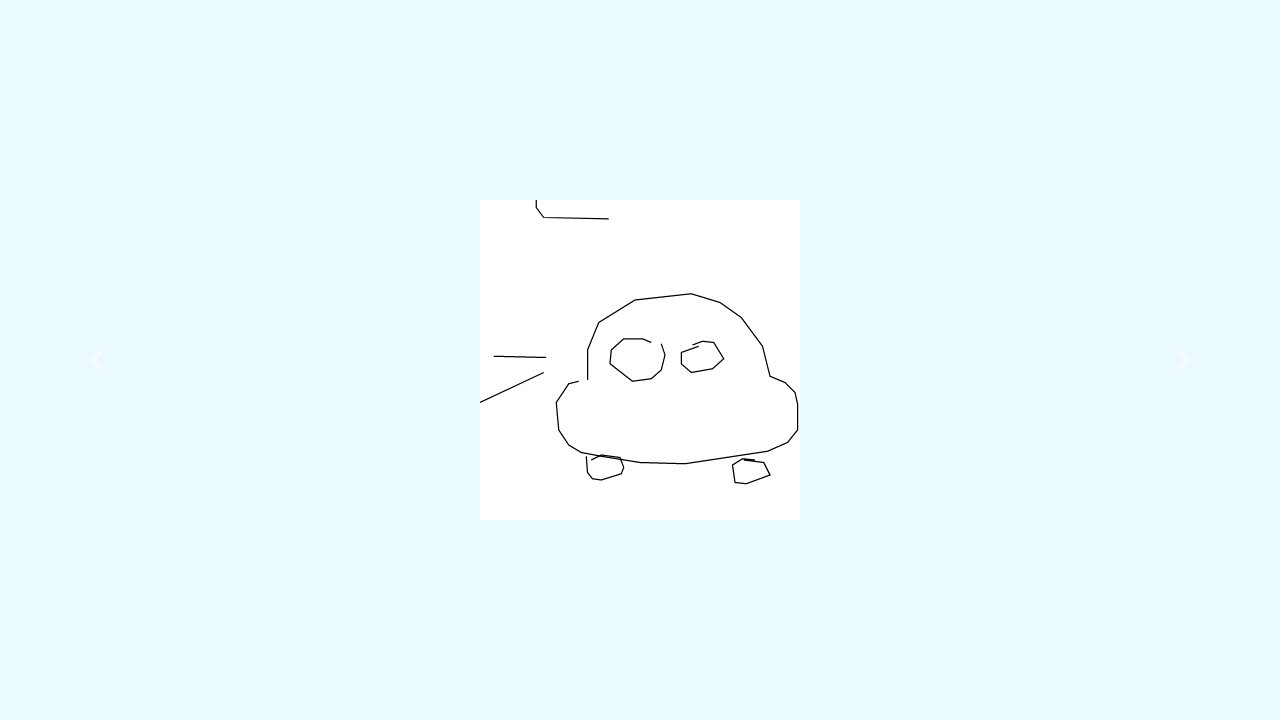car: (472, 286, 806, 502)
